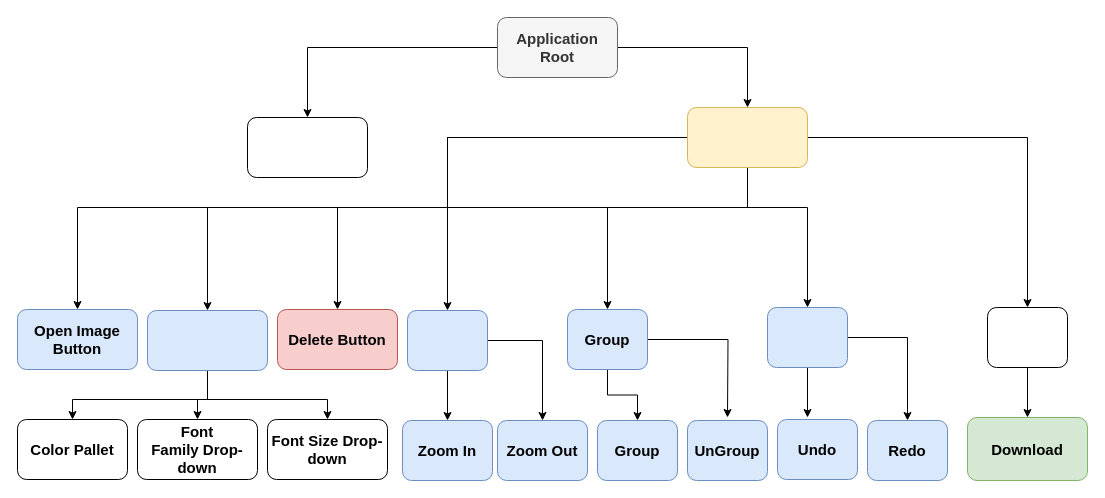
Image size: 1105x498. Some labels were removed from this diagram. The centre of each missing label's shape, as x and y in pixels:
"Actions Panel" belongs at [747,137].
"Canvas Area" belongs at [307,147].
"Format" belongs at [1027,337].
"History" belongs at [807,337].
"Text Block" belongs at [207,340].
"Zoom" belongs at [447,340].
